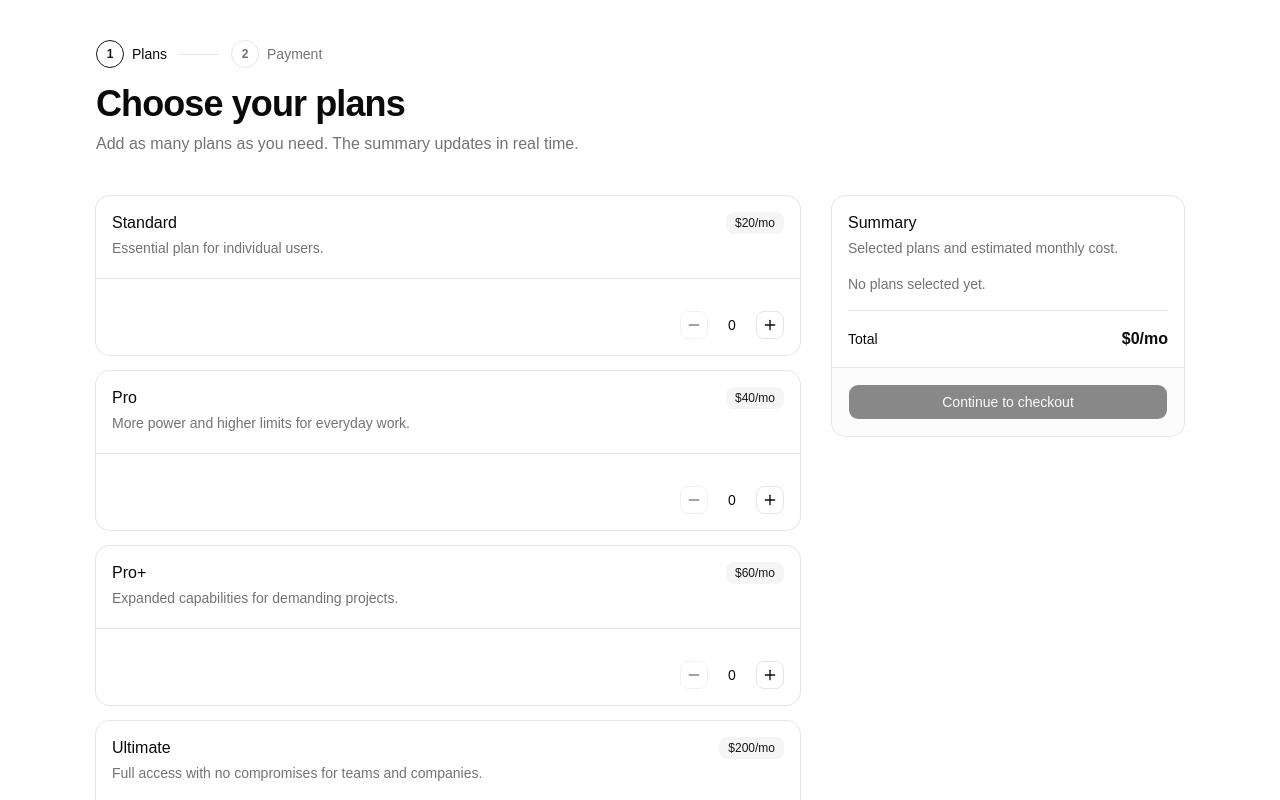
ProductsPage › shows a checkout error when submit fails
Expected: the text "Pro" is shown, [112,389,137,406]
Click the button named "Increase Pro quantity".
click(770, 500)  # box [756,486,784,514]
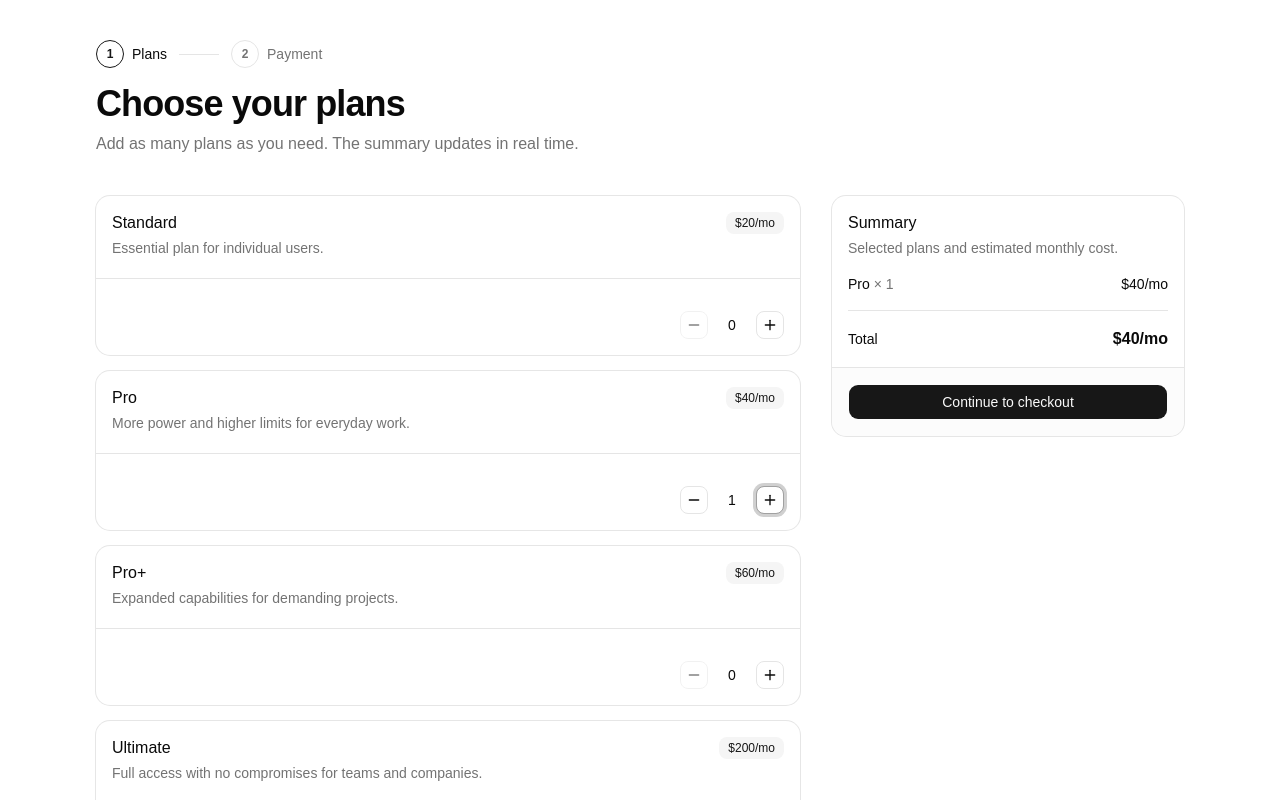
Click the button "Continue to checkout".
click(1008, 402)  # box [848,384,1168,420]
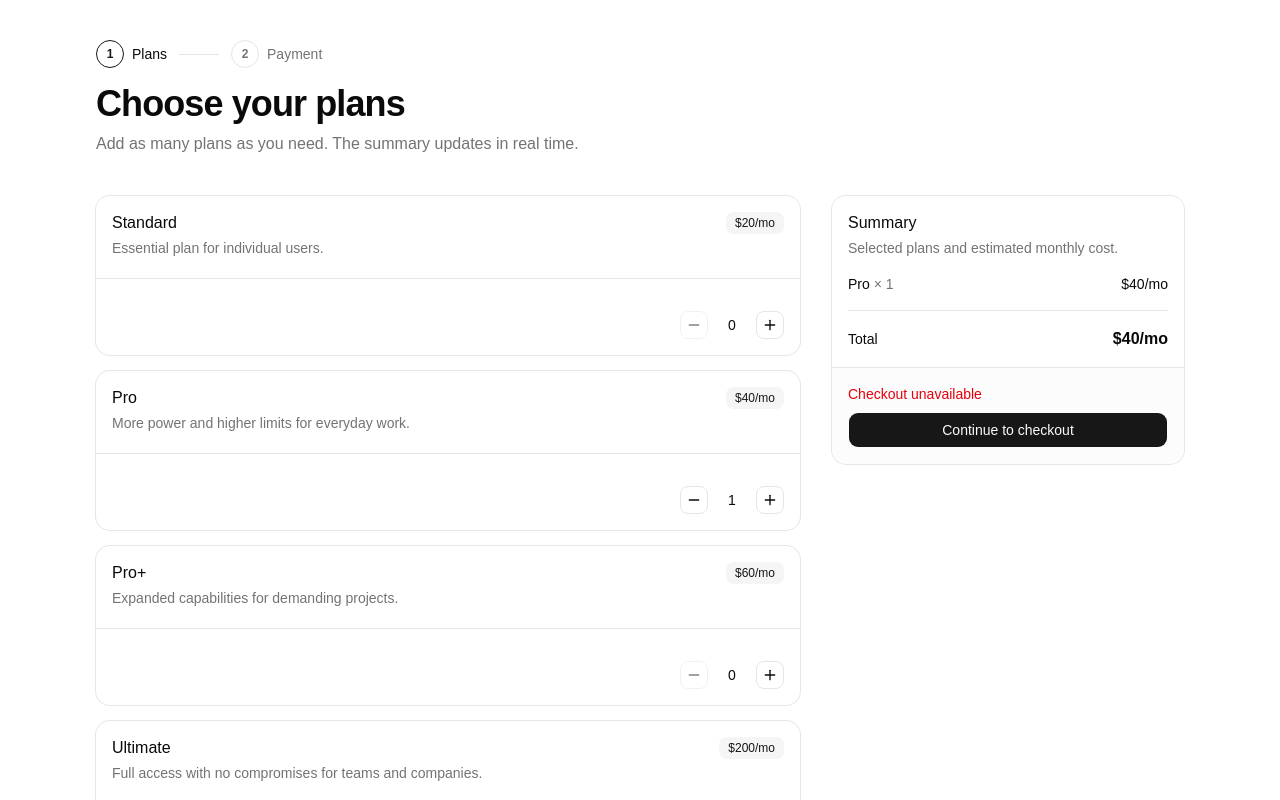
Expected: the message "Checkout unavailable" is shown, [848,386,982,402]
